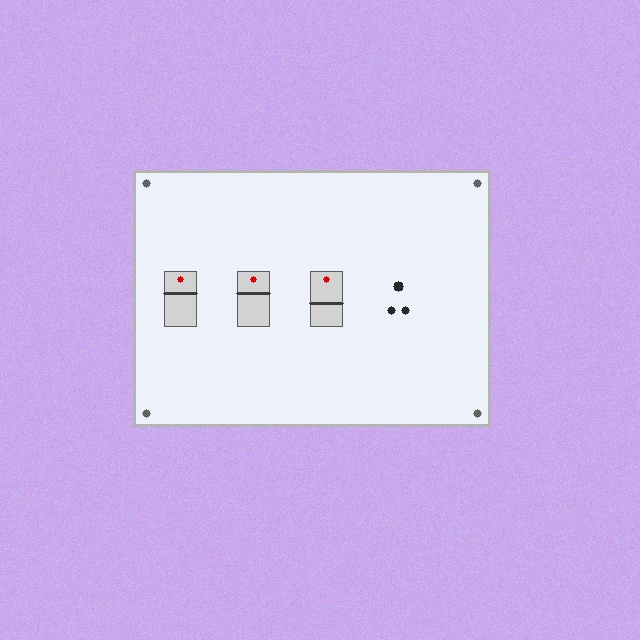switchboard: (134, 171, 489, 425)
